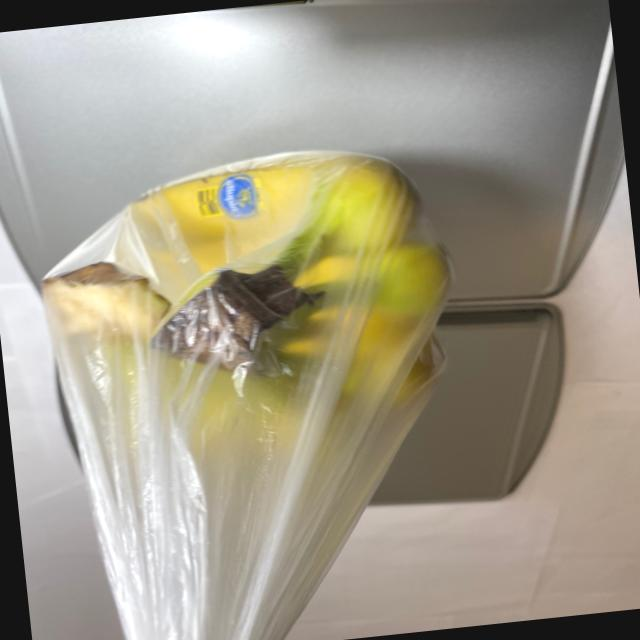banana: (25, 136, 472, 475)
